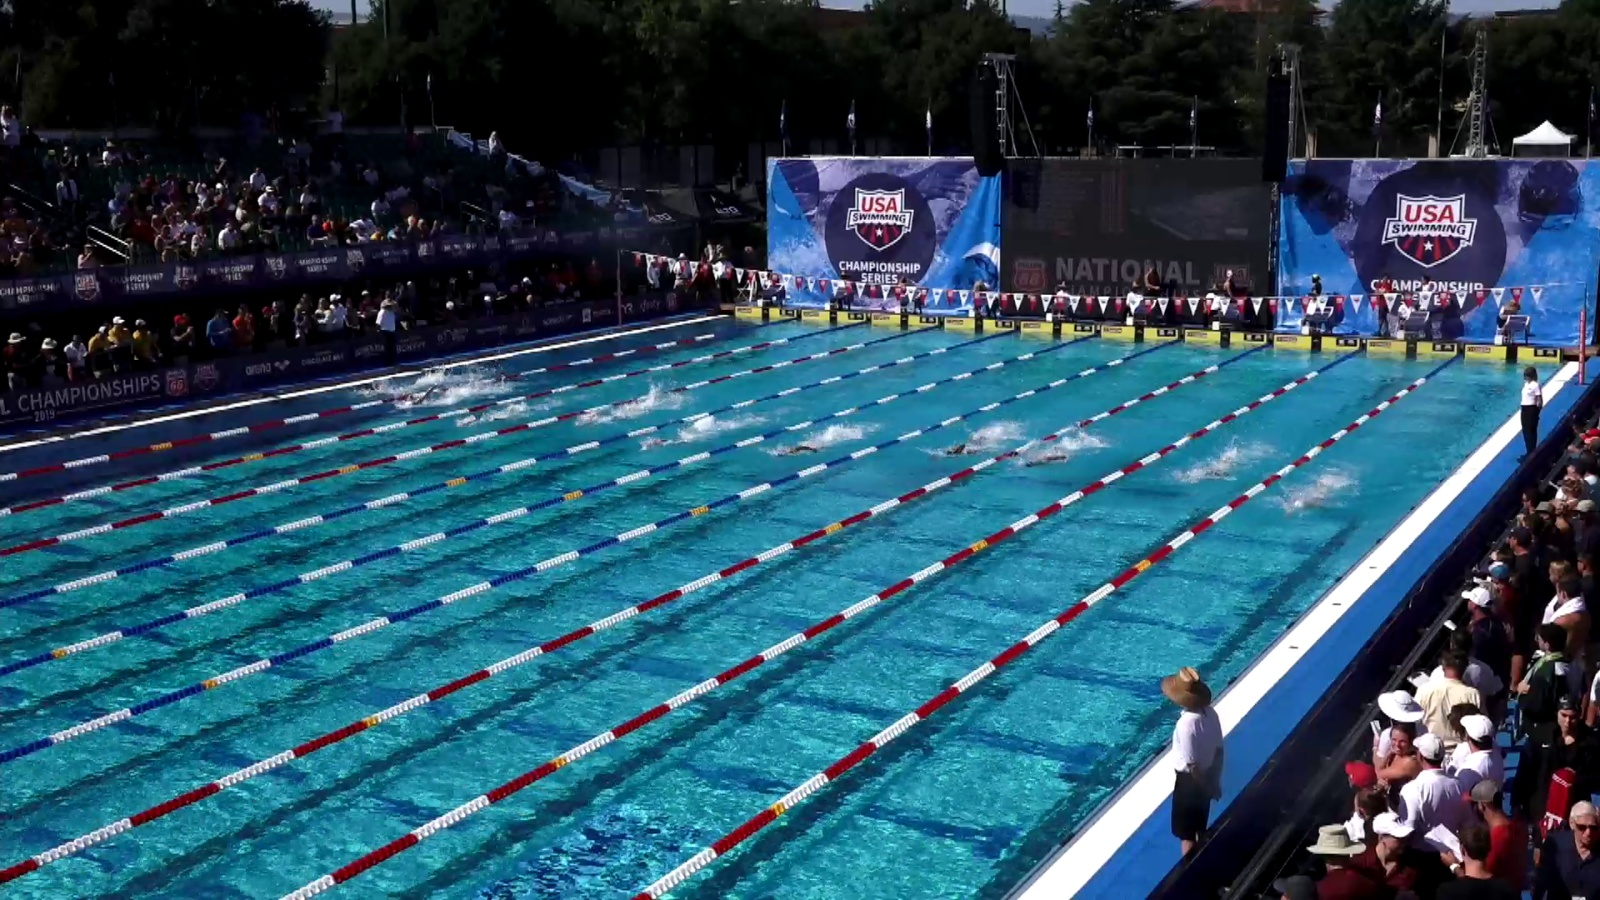swimmerw: (1282, 481, 1335, 519), (774, 430, 834, 459), (1018, 443, 1084, 469), (932, 434, 996, 459), (456, 405, 521, 427), (1191, 457, 1237, 486), (574, 409, 634, 430), (638, 431, 692, 454), (403, 387, 452, 410), (364, 384, 408, 401)
